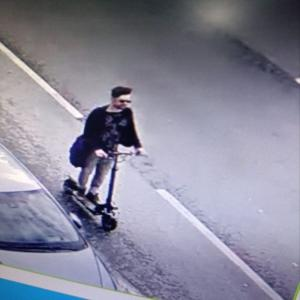human on a scooter: (62, 85, 146, 232)
